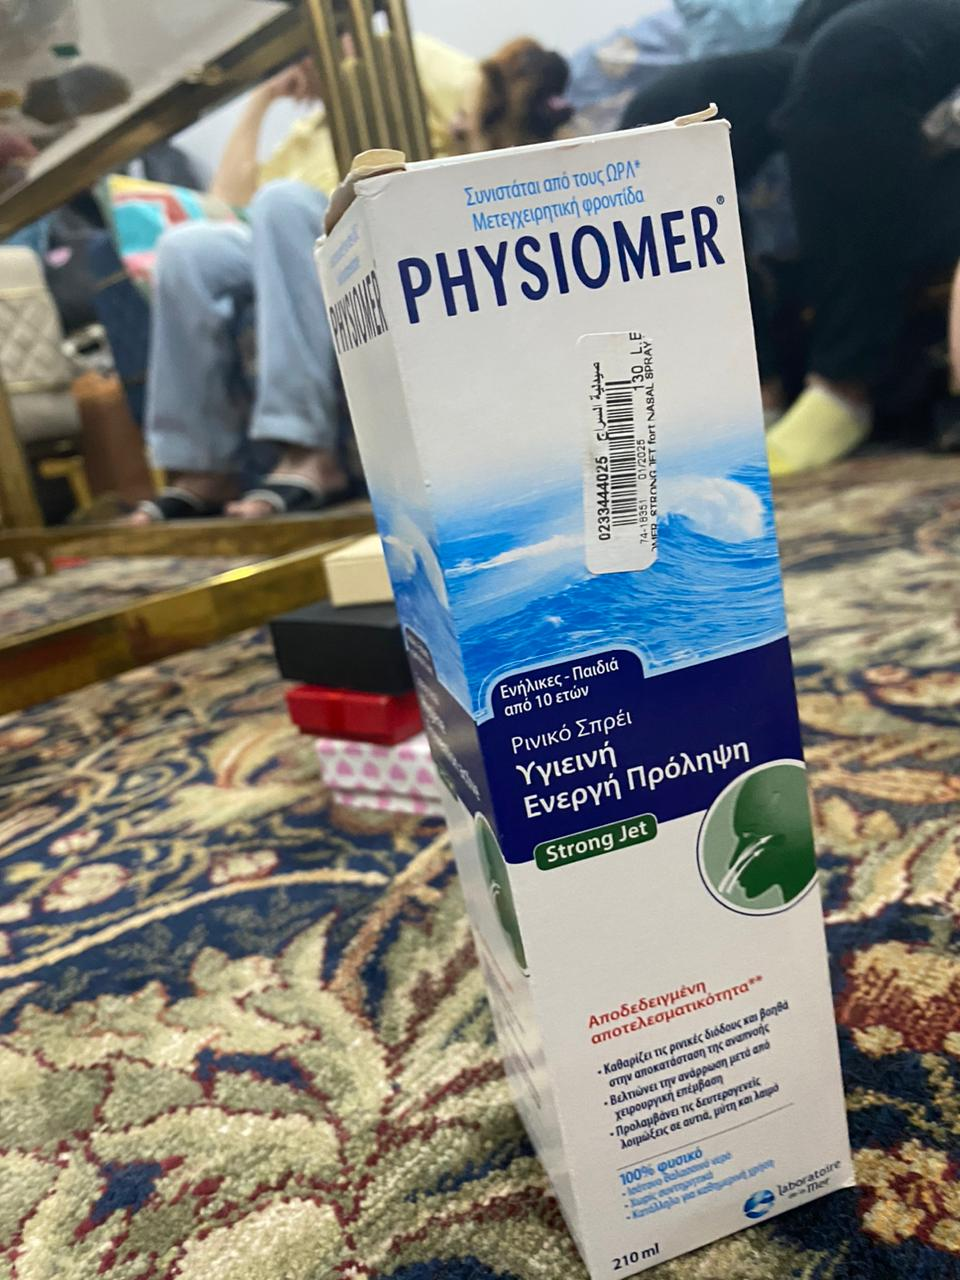Black Box: (282, 682, 427, 741)
Physiomer: (312, 104, 860, 1280)
Pink Box: (308, 742, 447, 815)
Red Box: (269, 600, 419, 689)
Yellow Box: (321, 545, 397, 604)
